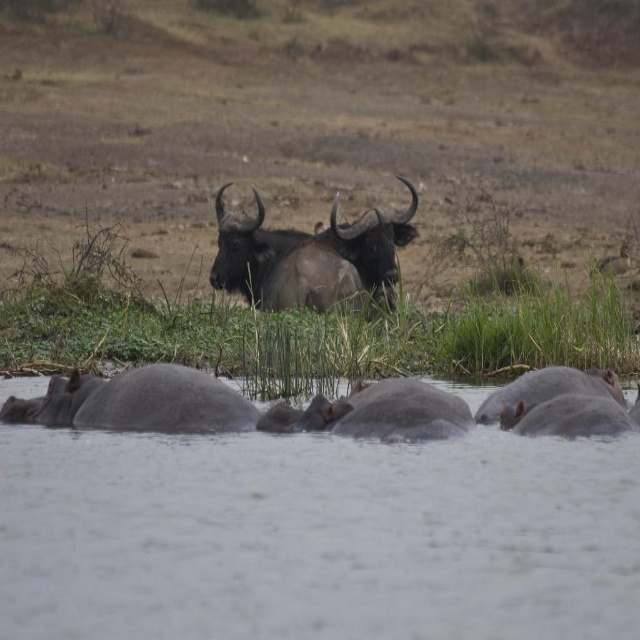Hippopotamus: (248, 376, 477, 446), (0, 371, 263, 431), (470, 369, 625, 414), (501, 392, 640, 437), (624, 382, 640, 429)
